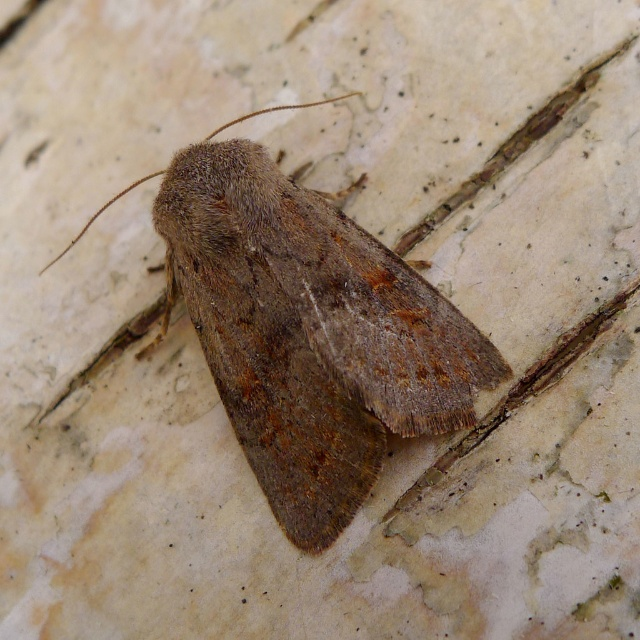Moths and butterflies: (34, 88, 512, 570)
